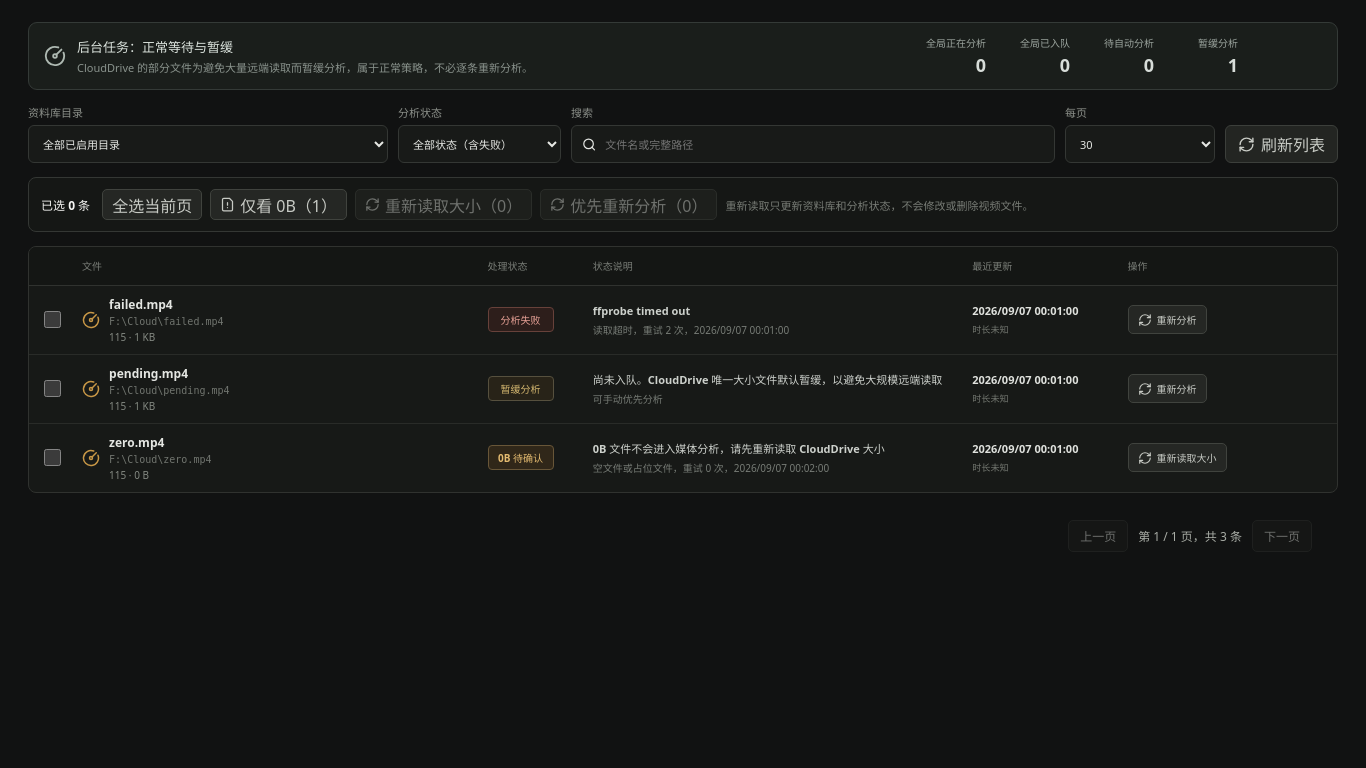
Test: MetadataIssuesPage › filters by derived state and retries only non-zero selected rows
Check: the text "failed.mp4" is shown, box left=109, top=296, right=173, bottom=312
Select "暂缓分析" in the dropdown labelled "分析状态" at [480, 144], box left=398, top=125, right=561, bottom=163
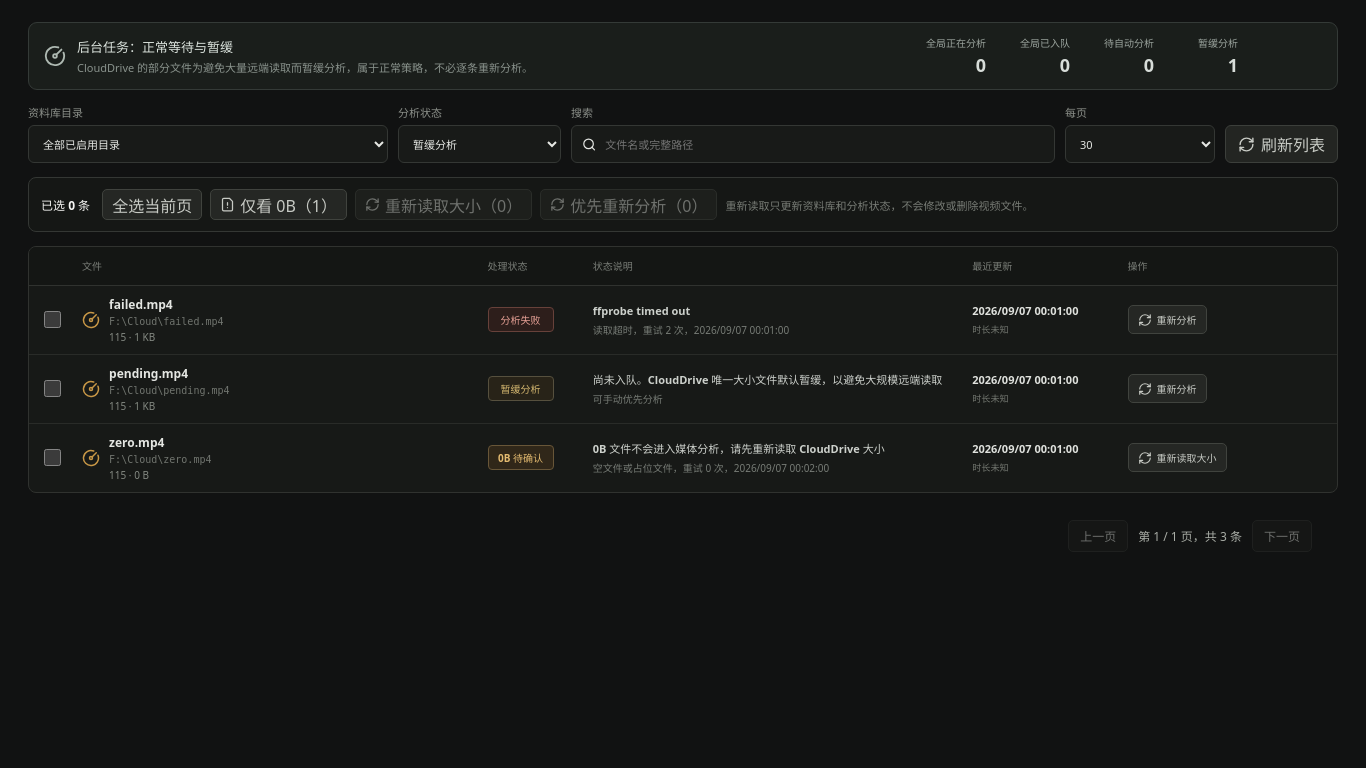
Click the button "全选当前页" at [152, 204], box left=102, top=189, right=202, bottom=220
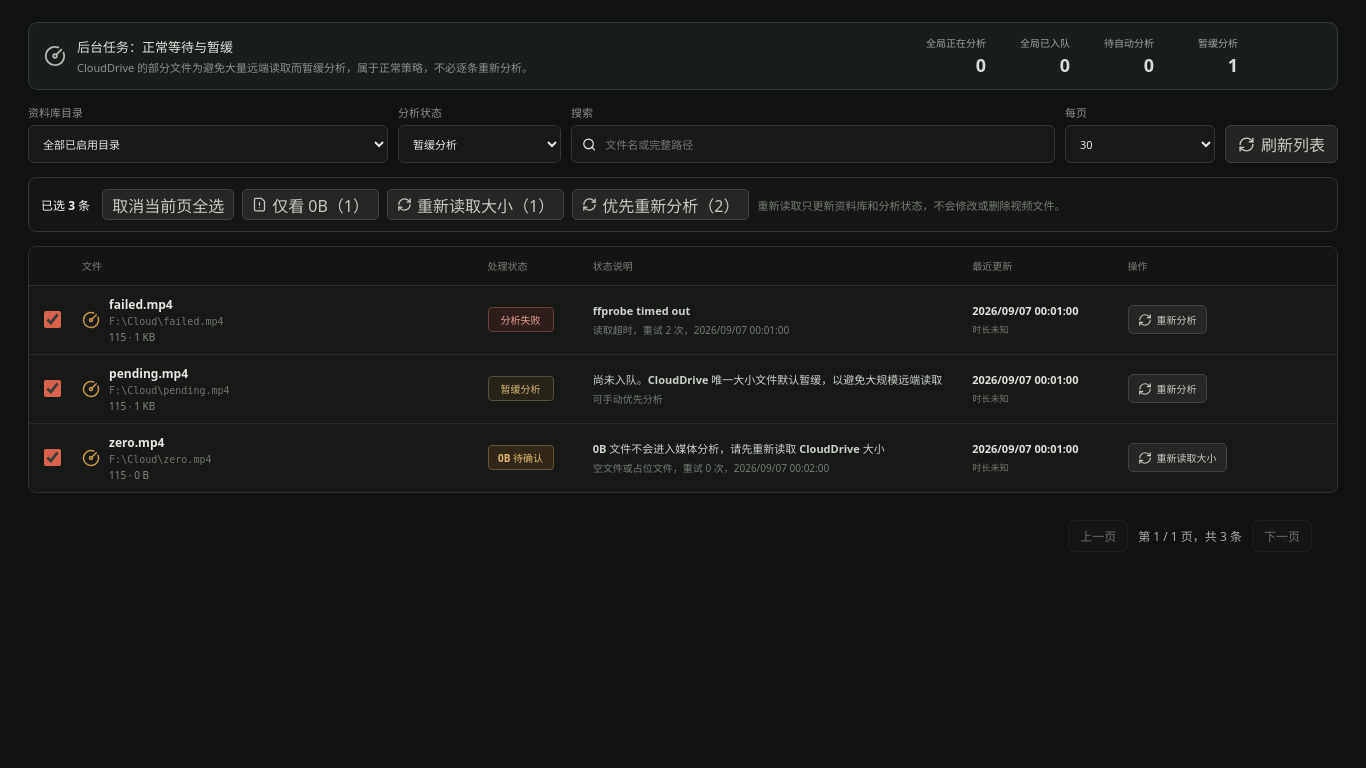
Click the button "优先重新分析（2）" at [661, 204], box left=572, top=189, right=749, bottom=220
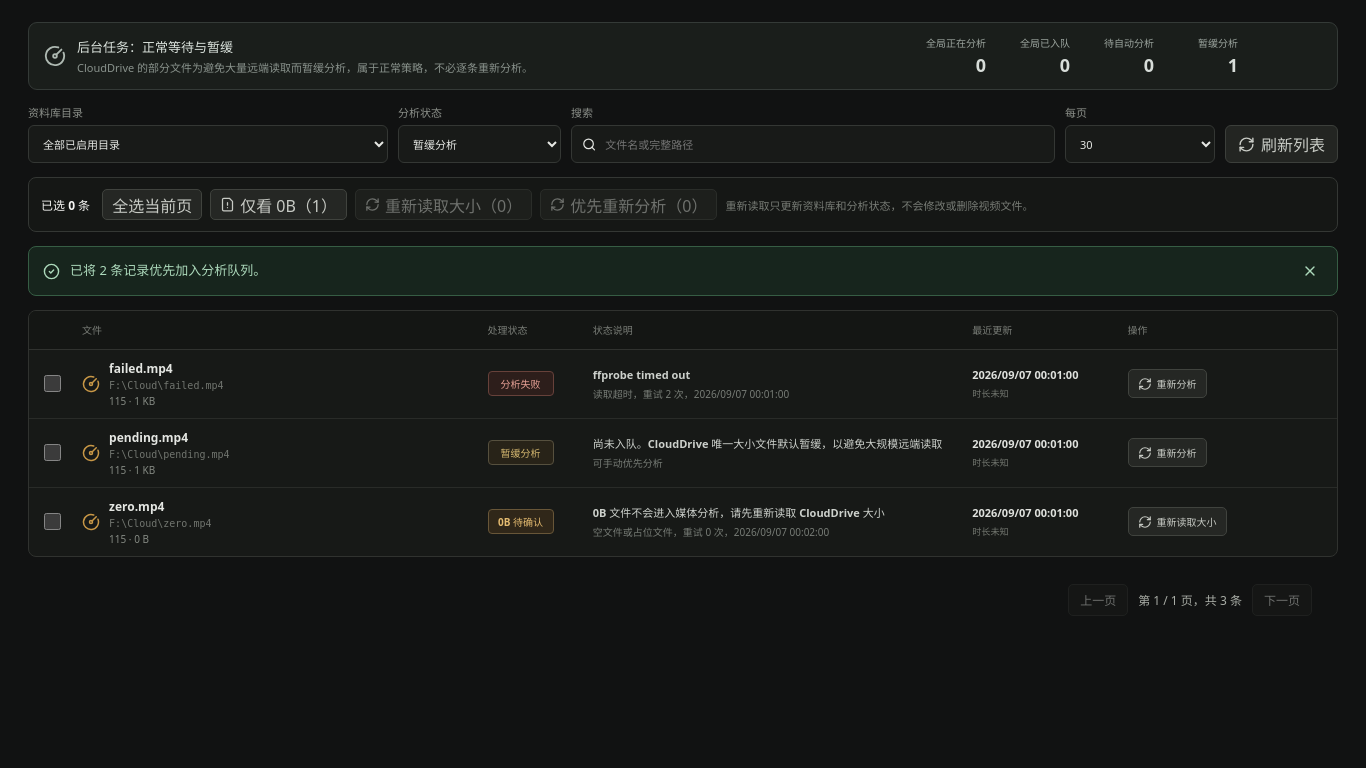
Check: the text "已将 2 条记录优先加入分析队列。" is shown, box left=70, top=261, right=266, bottom=279
